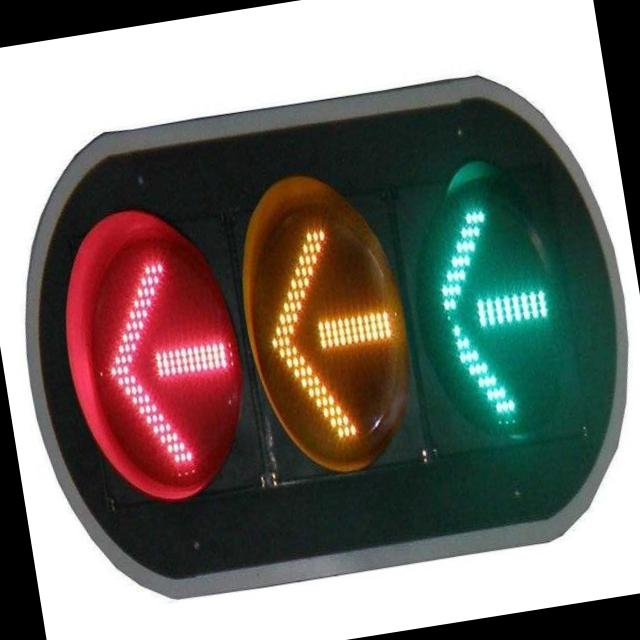green-lights: (390, 132, 614, 464)
red-lights: (36, 176, 264, 514)
yellow-lights: (224, 150, 436, 492)
